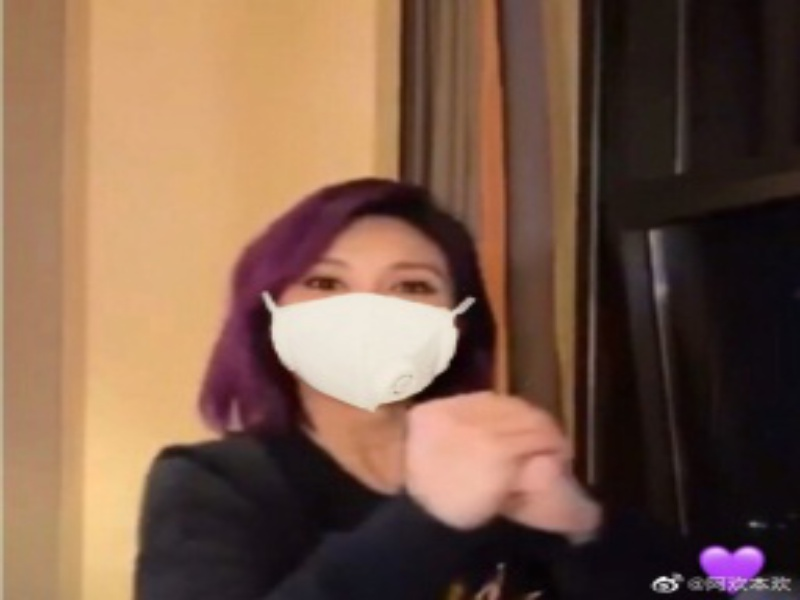ManaoArotava: (222, 176, 501, 438)
